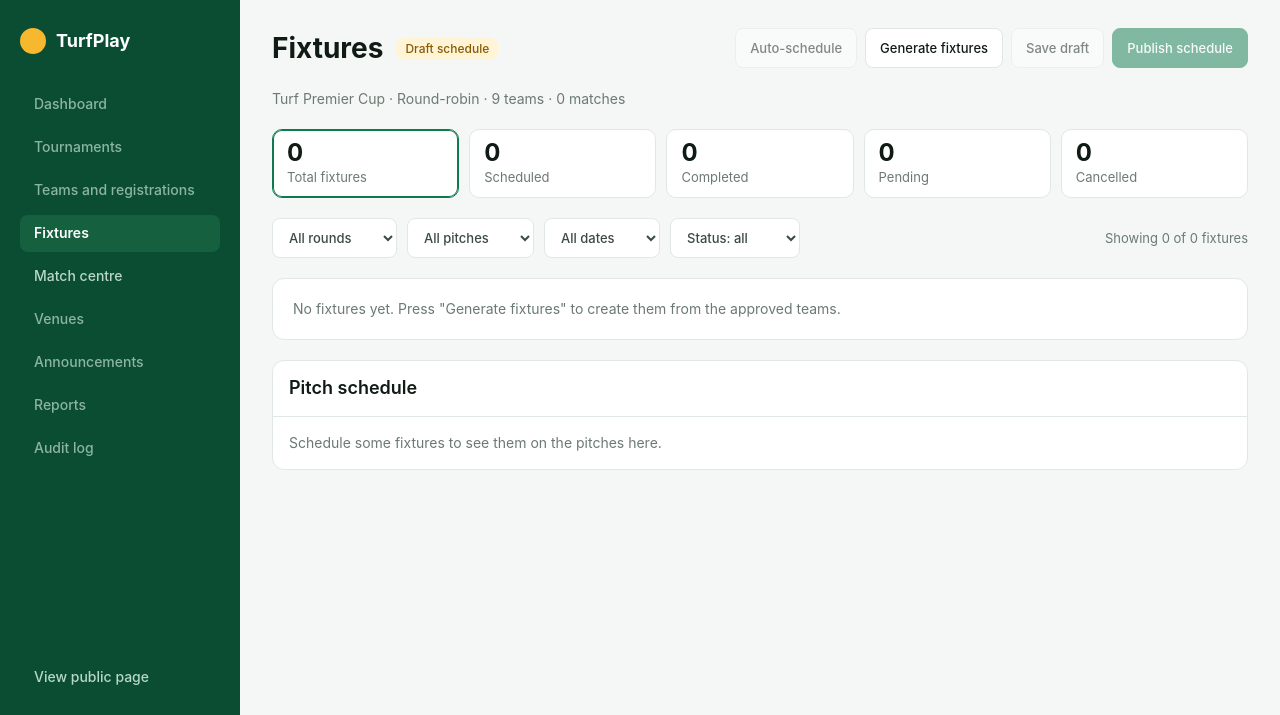
Fixture Manager: generating › starts empty, then generates a league for the 9 approved teams (odd number -> byes)
Click the button "Generate fixtures" at coordinates (934, 48), box left=865, top=28, right=1003, bottom=68
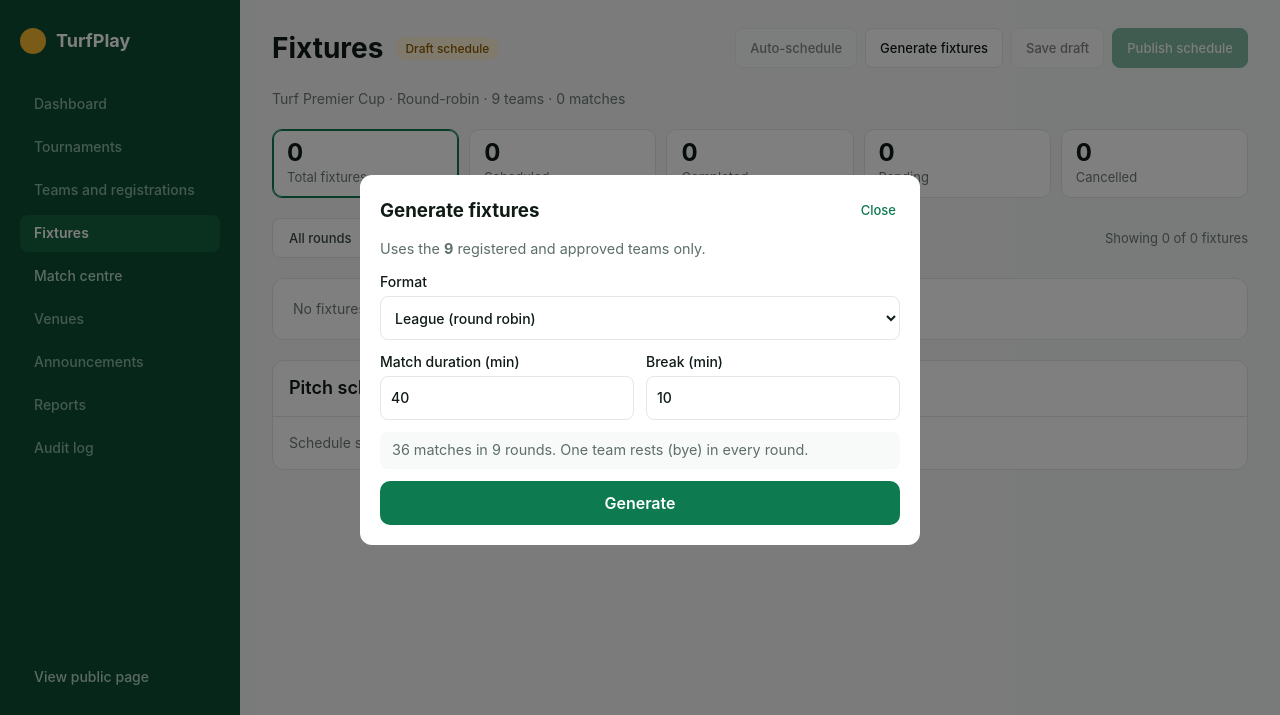
Click the button "Generate" at coordinates (640, 503), box left=380, top=481, right=900, bottom=525
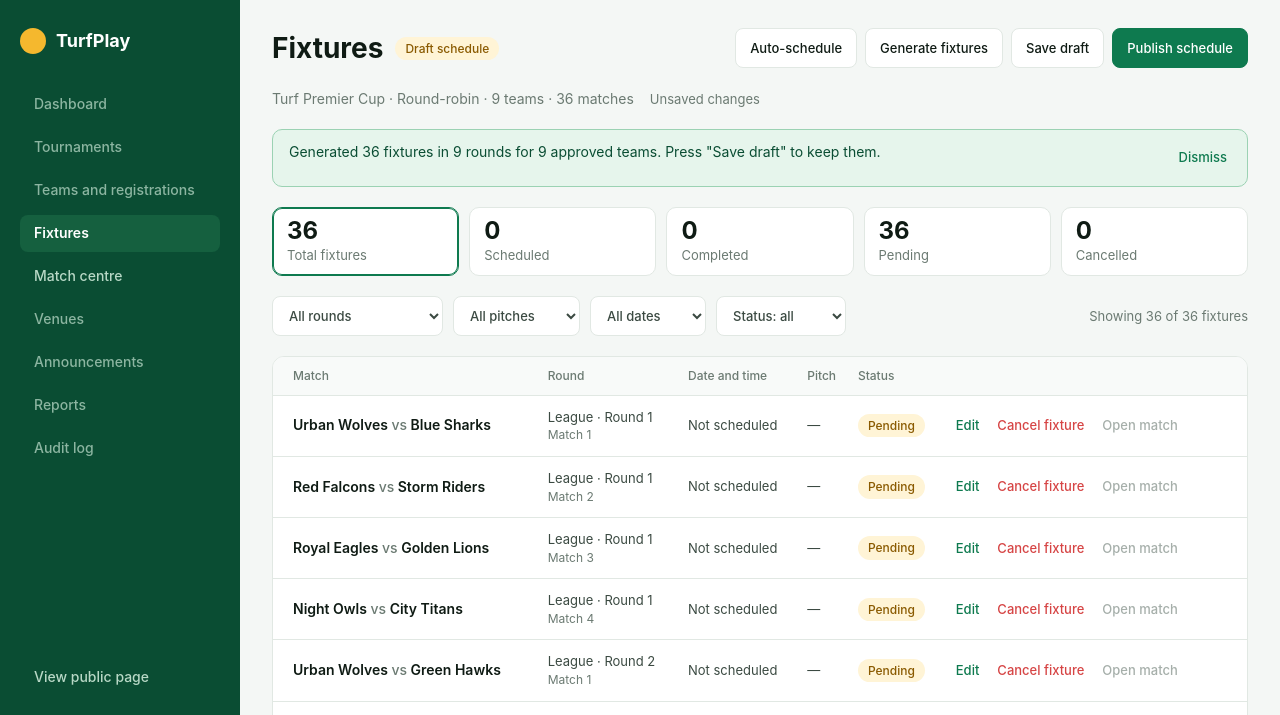
Expected: the text "Generated 36 fixtures in 9 rounds for 9 approved teams" is shown, left=289, top=143, right=881, bottom=160
Expected: the text with class "fm-subtitle" reads "Turf Premier Cup · Round-robin · 9 teams · 36 matches", left=272, top=90, right=634, bottom=107
